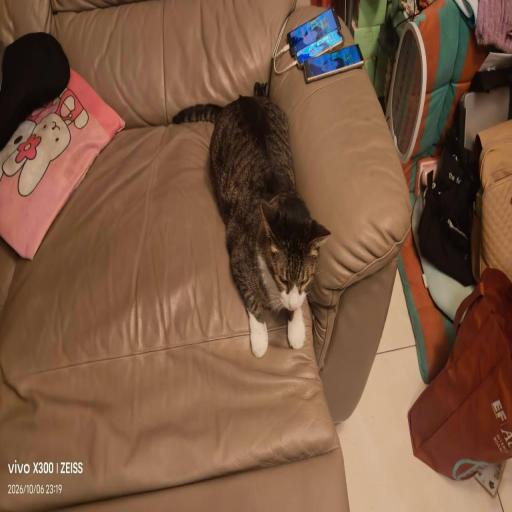cat: (216, 93, 319, 354)
